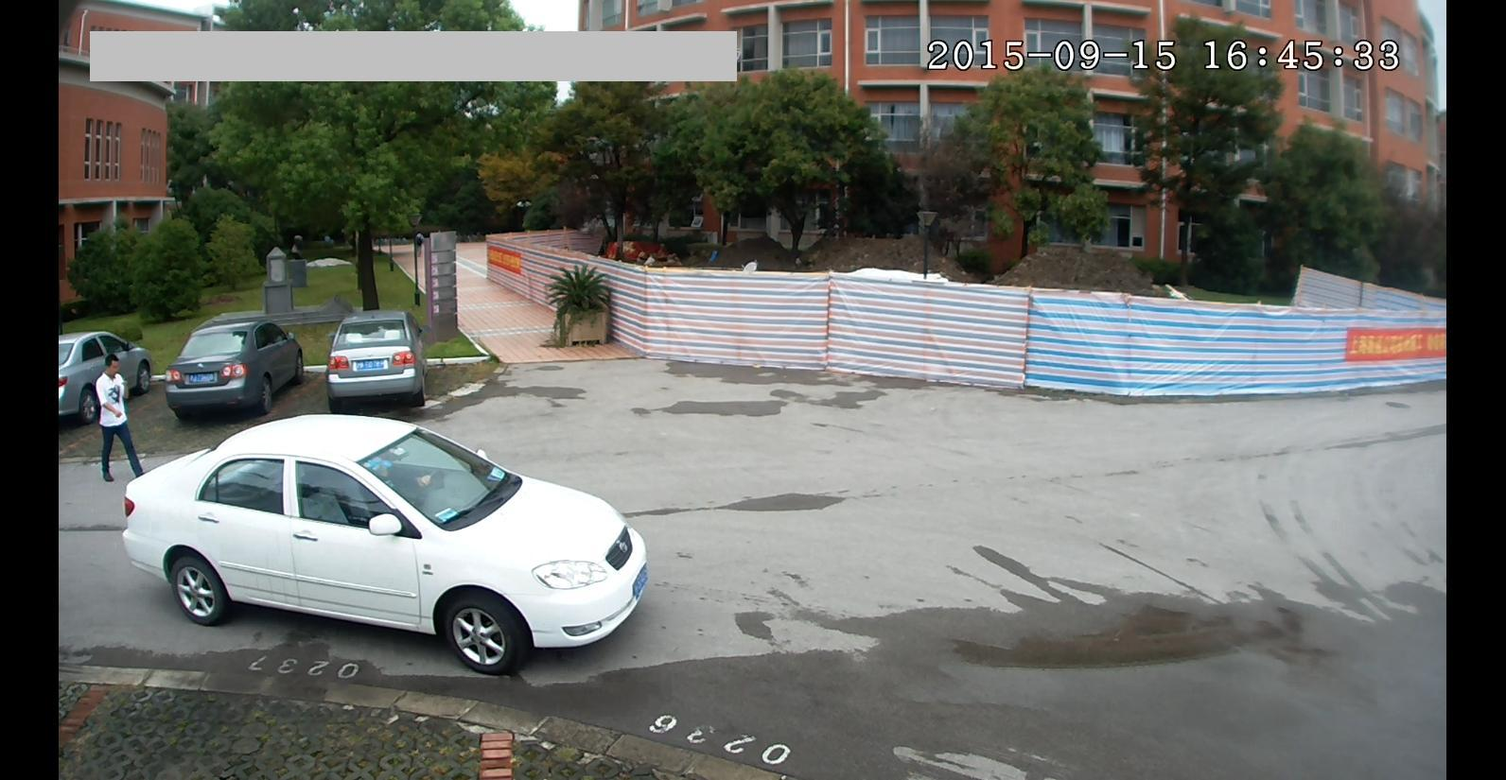person: (89, 352, 144, 484)
